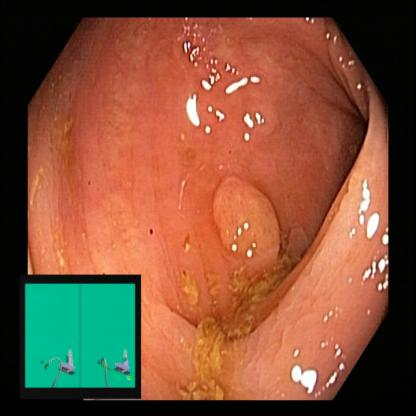Labels: (22, 275, 138, 400)
Polyps: (212, 162, 288, 279)
